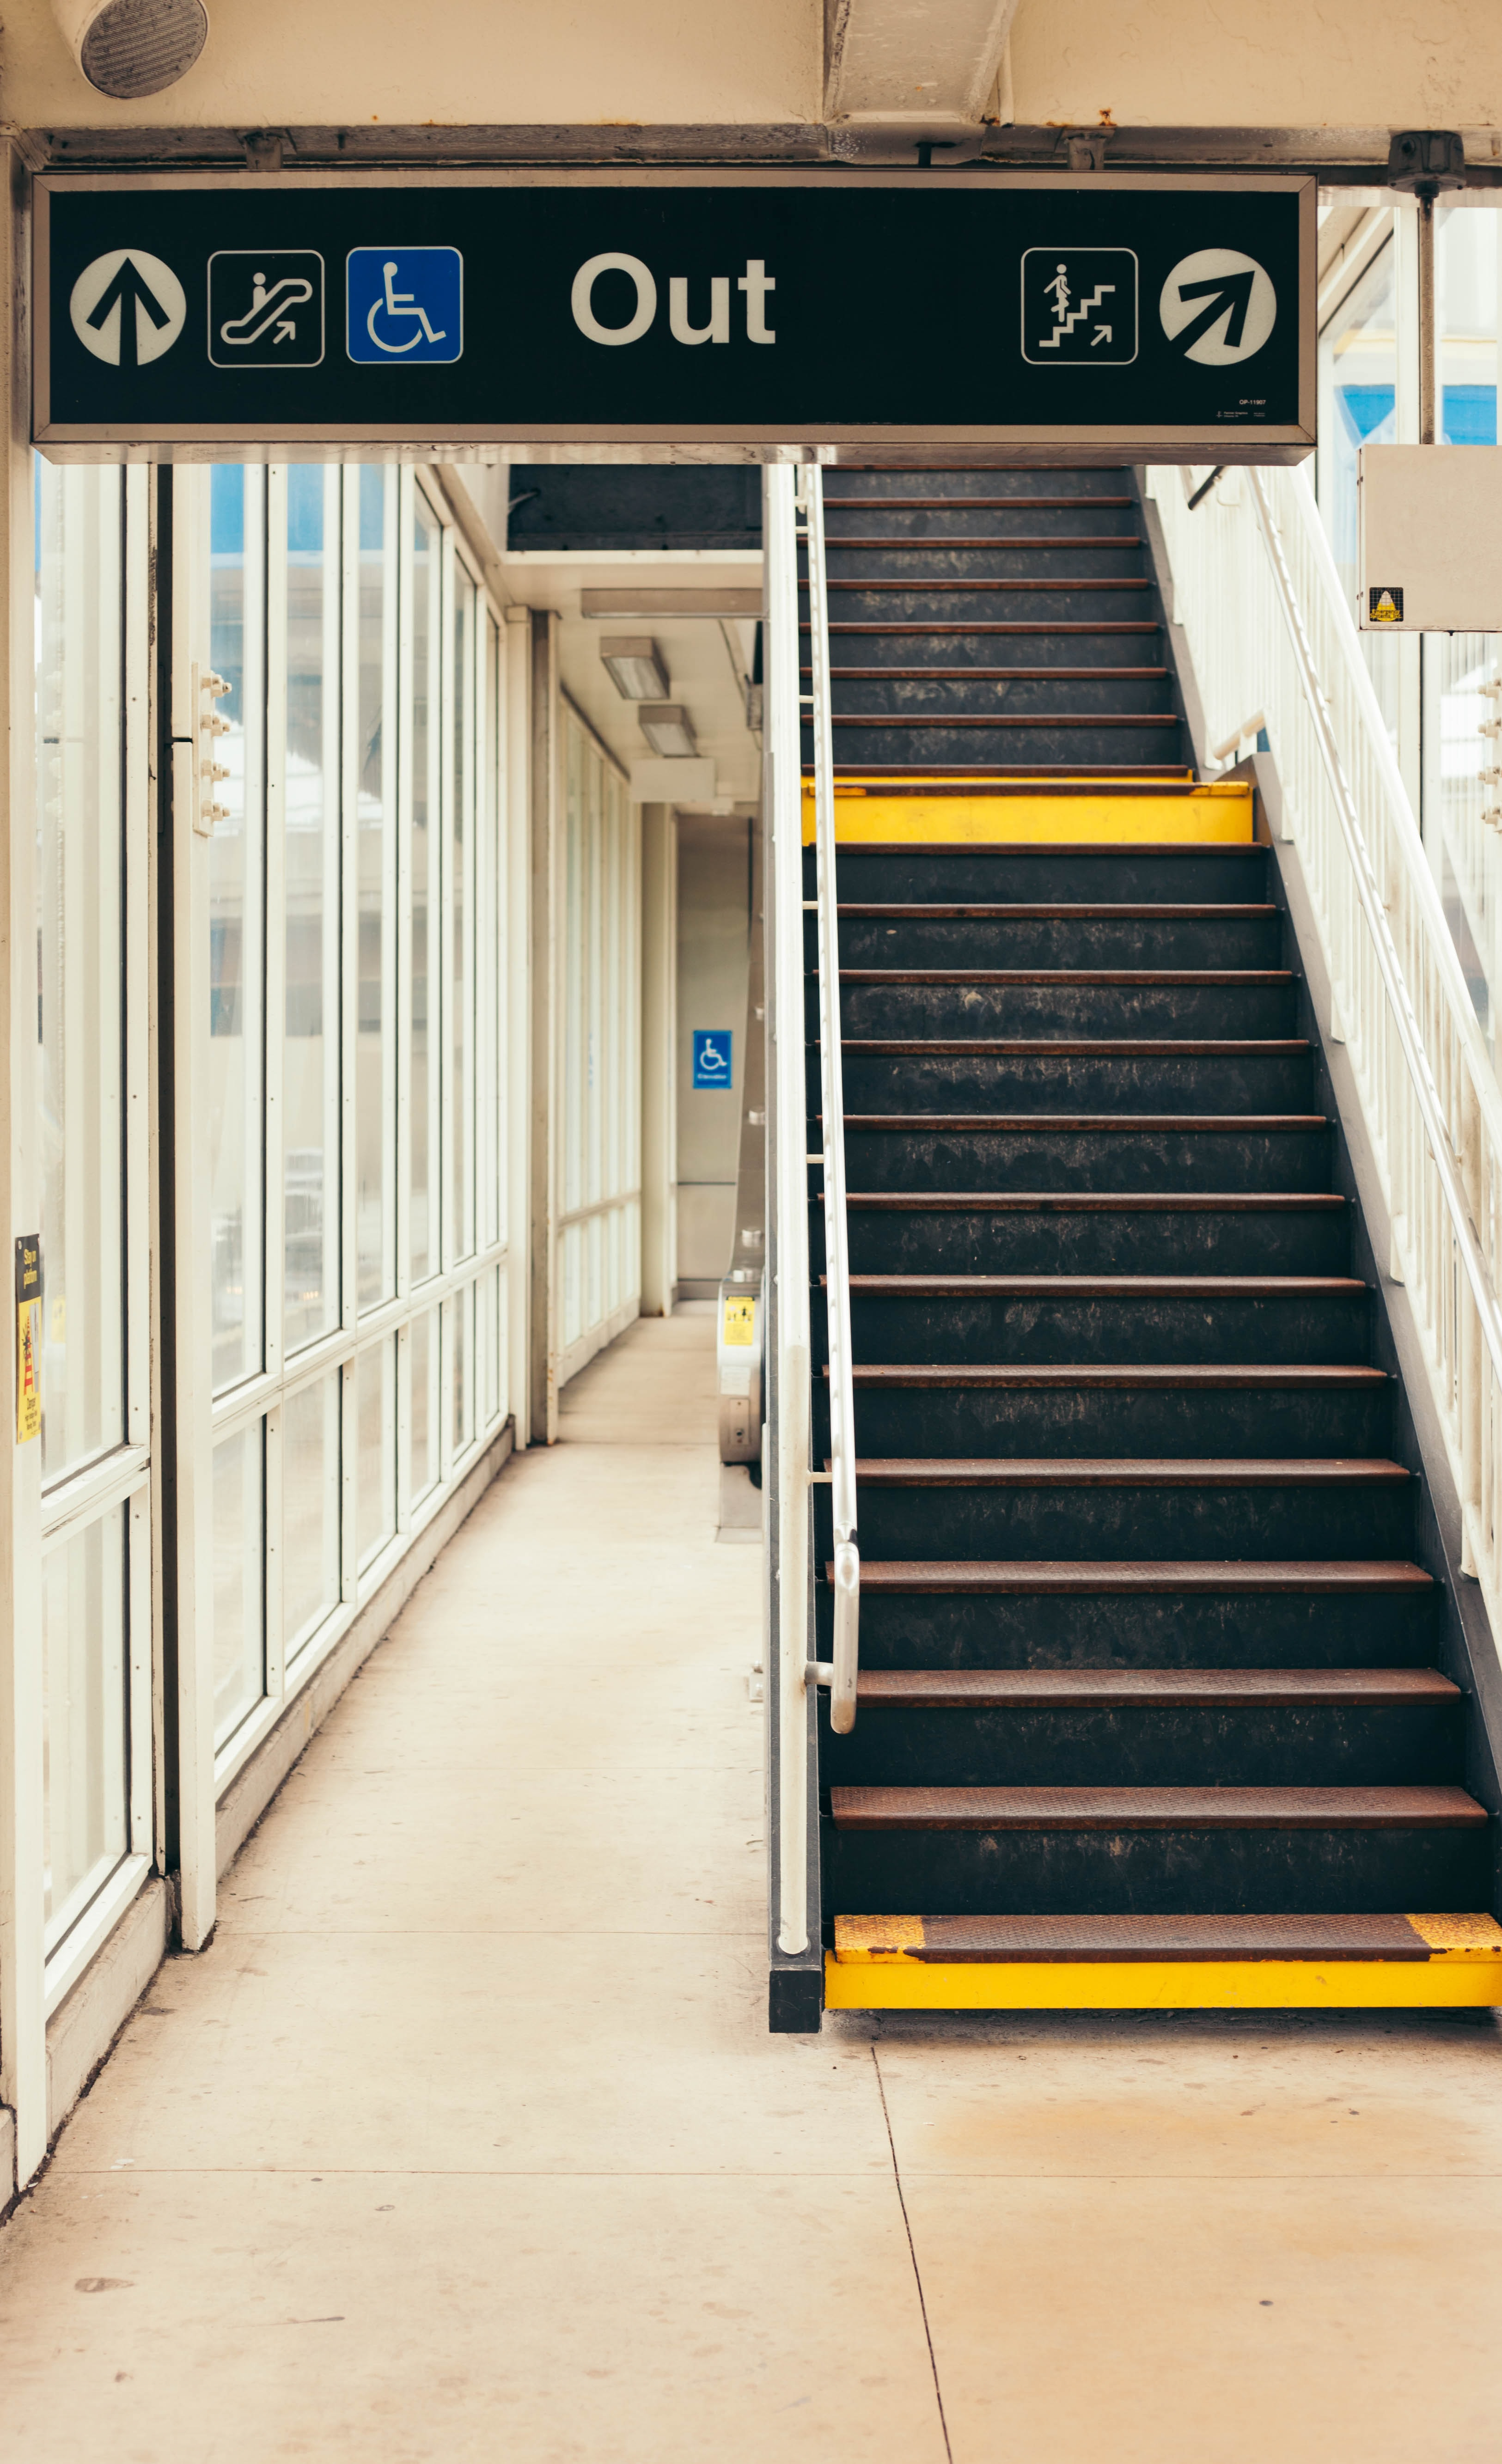upstairs: (870, 1334, 1395, 2086)
